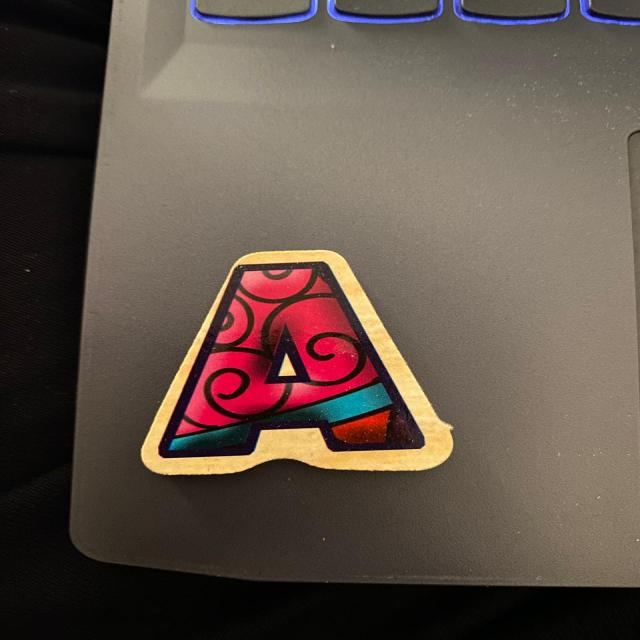A: (141, 250, 453, 475)
